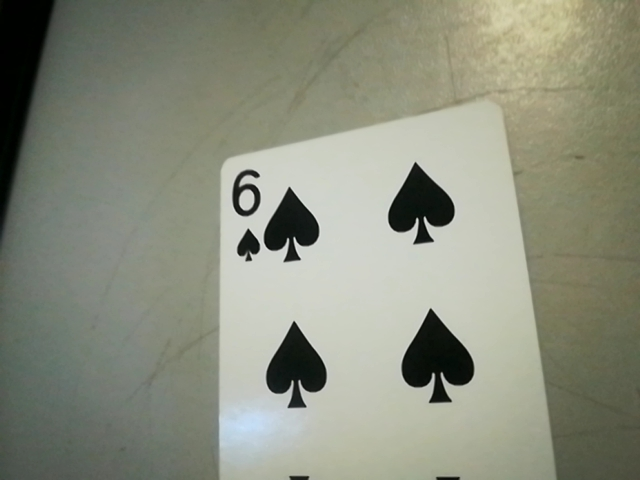ht 6: (221, 158, 272, 263)
